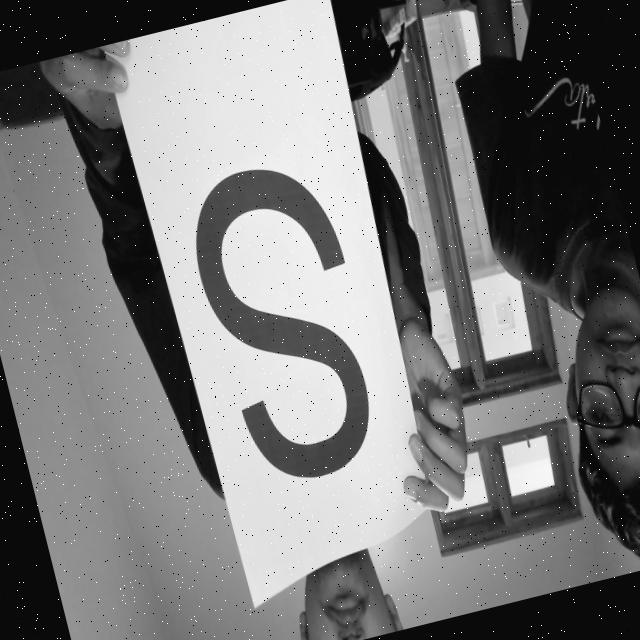s: (162, 110, 418, 513)
